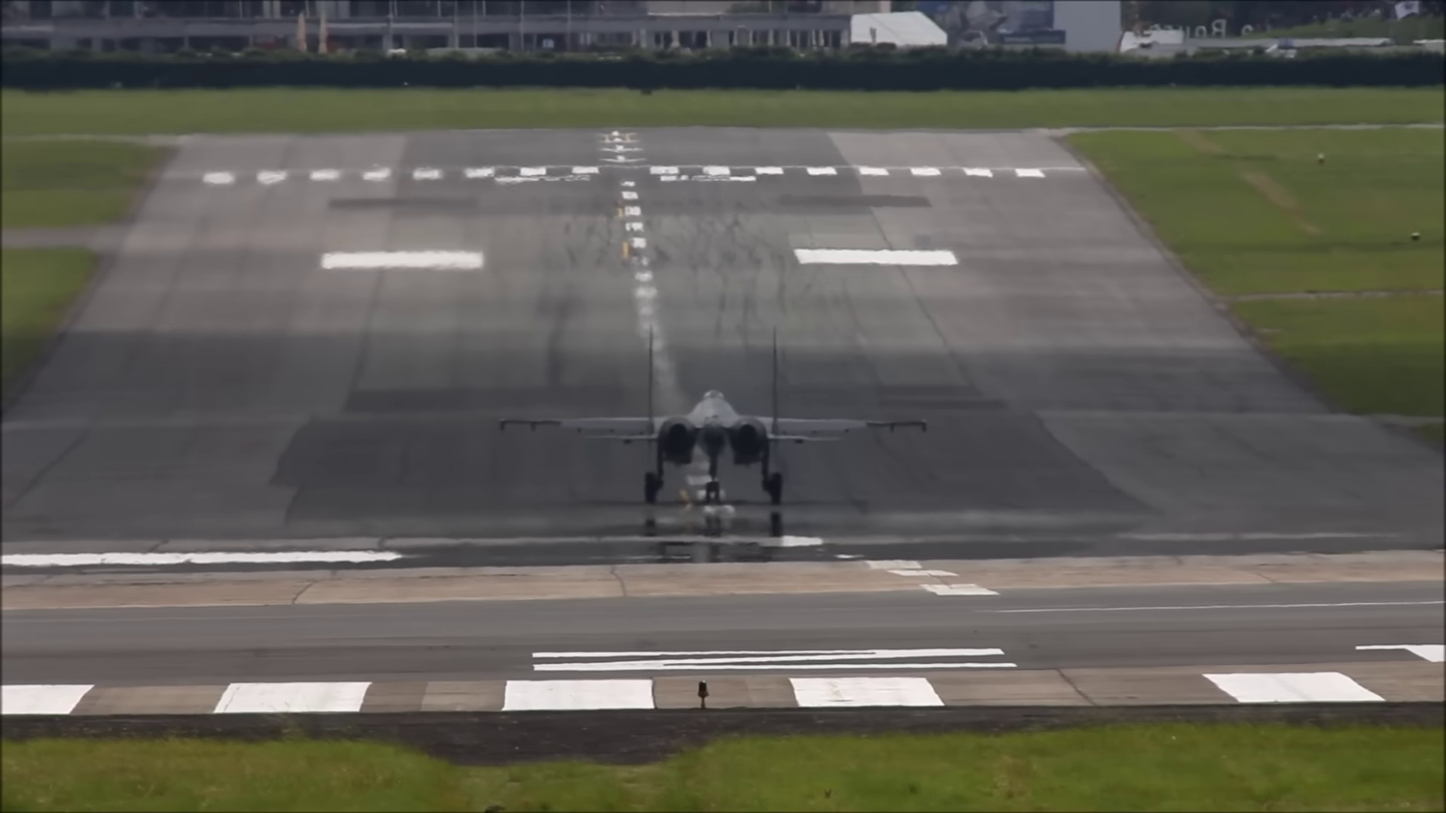Su35: (490, 309, 934, 520)
